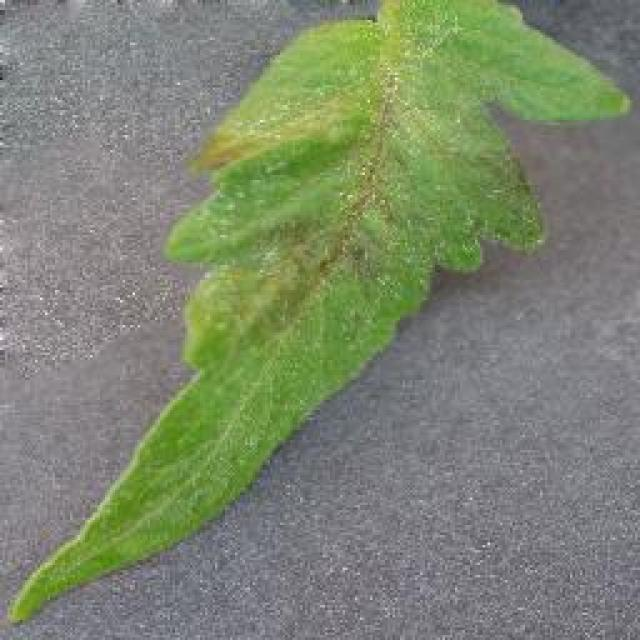Tomato late blight leaf: (38, 0, 611, 572)
